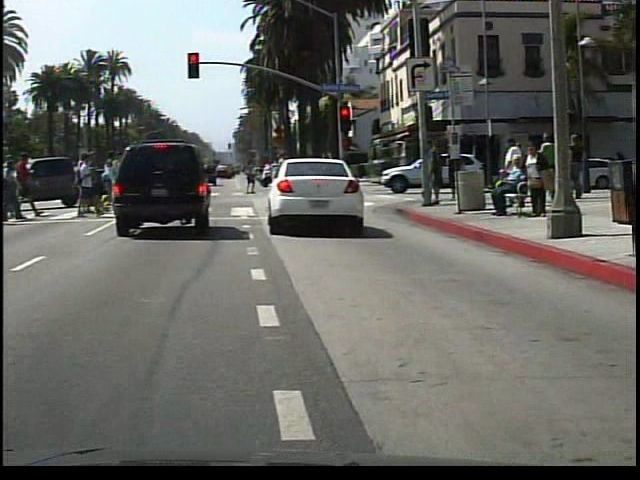person: (525, 140, 559, 223), (493, 154, 534, 215), (262, 146, 295, 215)
